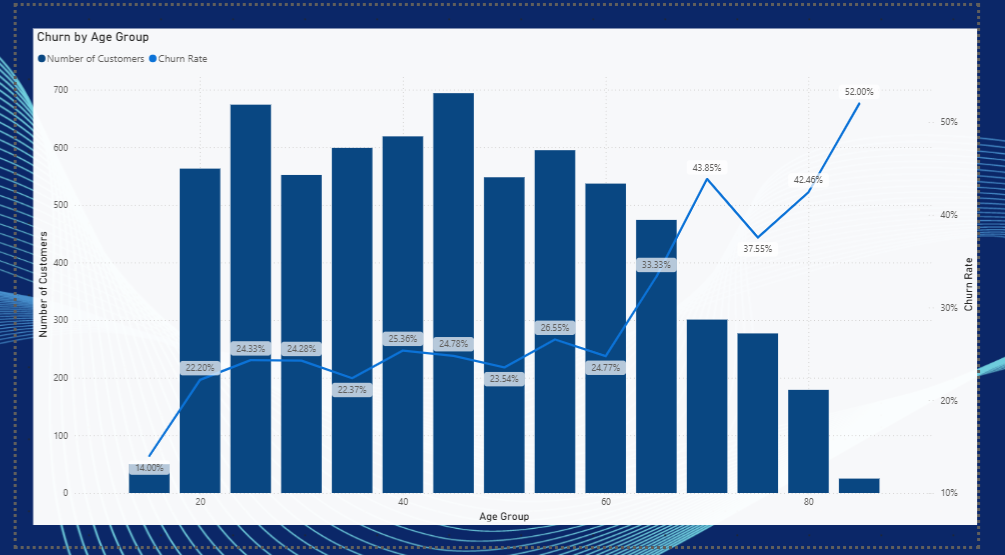

What the dashboard file says about the page in this screenshot:
{"tool":"powerbi","page":{"name":"Churn Rate byAge Bins","canvas":[1280,720],"ordinal":5},"visuals":[{"type":"lineStackedColumnComboChart","title":"Churn by Age Group","fields":{"Category":["Databel - Data.Age (bins)"],"Y":["Databel - Data.Number of Customers"],"Y2":["Databel - Data.Churn Rate"]},"box":[22,30,1258,662],"z":1}]}

Visuals, with their boxes in screenshot pixels (x1, y1, x2, y2), scaled from the page's 1280x720 canvas onto the 1005x555 screenshot:
"Churn by Age Group" lineStackedColumnComboChart: Rect(17, 23, 1004, 533)
